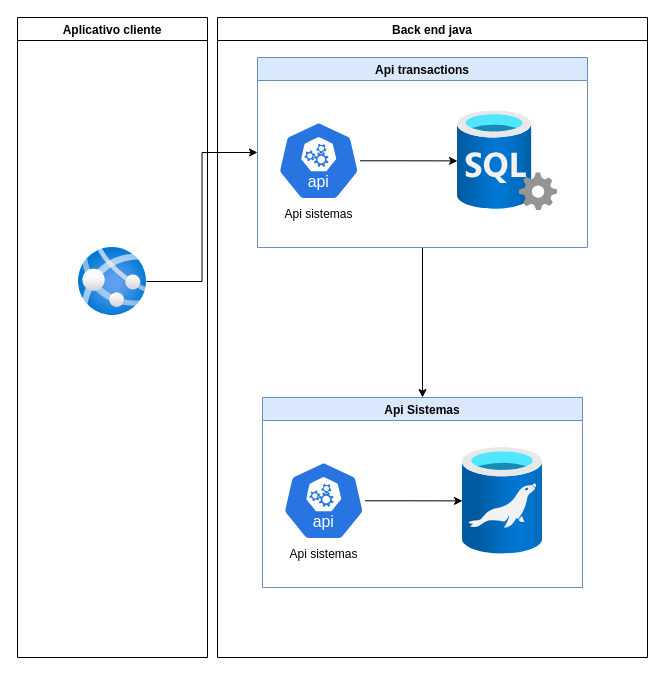
Some shapes in this 665 by 675 pixel diagram are drawn without their labels. The shapes that lost their labels are listed below. From the top down, each one's centre as x and y in pixels, then its label:
the point at 507,160: BD-SQL Server
the point at 112,281: Frond end
the point at 502,500: BD-MariaDB
